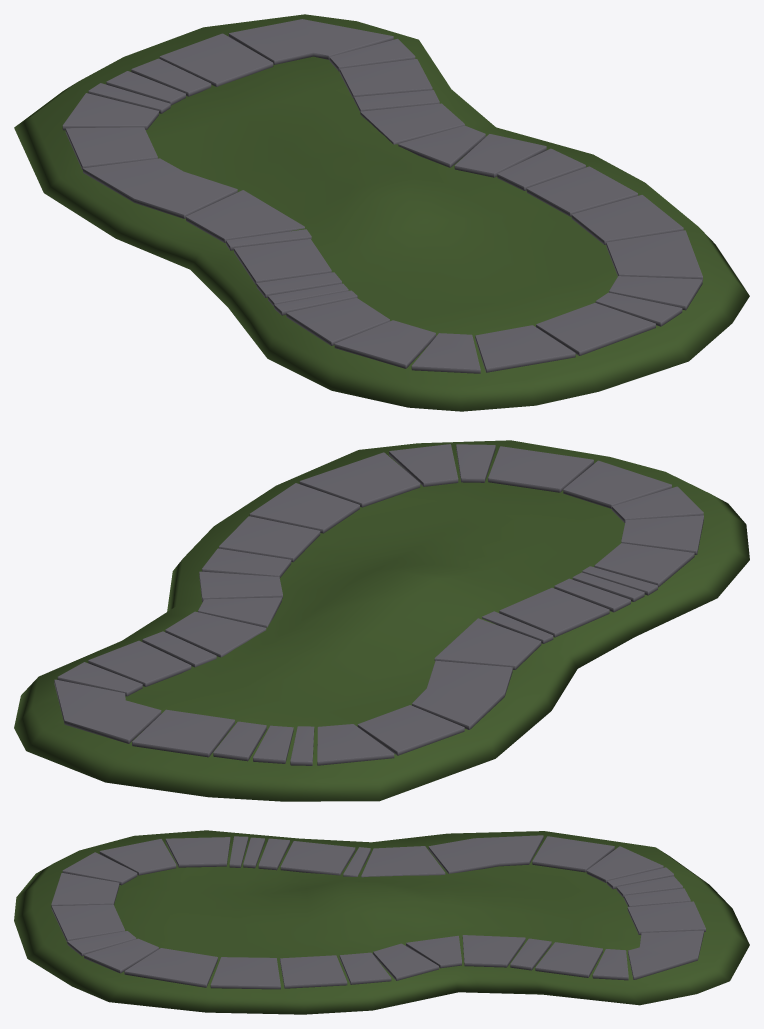
Rendered from Ground.glb.
3 renders of one model, top to bottom at view 1: azimuth 30°, elevation 25°; view 2: azimuth 150°, elevation 25°; view 3: azimuth 270°, elevation 25°, orthographic. The views are drawn at different scales.
Visible parts, largest first — view 1: Plane.001; view 2: Plane.001; view 3: Plane.001.
Part boxes in pixels (x1,y1,x2,y2): Plane.001: (14,14,749,411); Plane.001: (14,440,749,801); Plane.001: (14,830,749,1014).
Size of the model in its own units: 3.1 by 0.2654 by 5.47.
